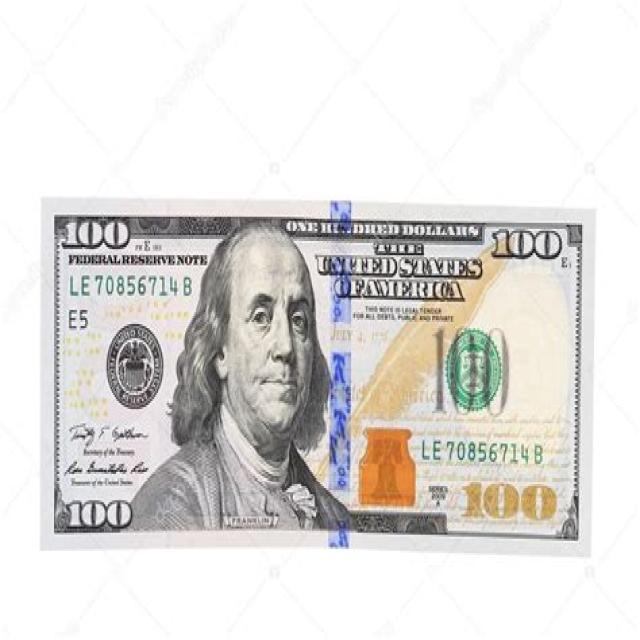Hundred: (41, 198, 593, 559)
